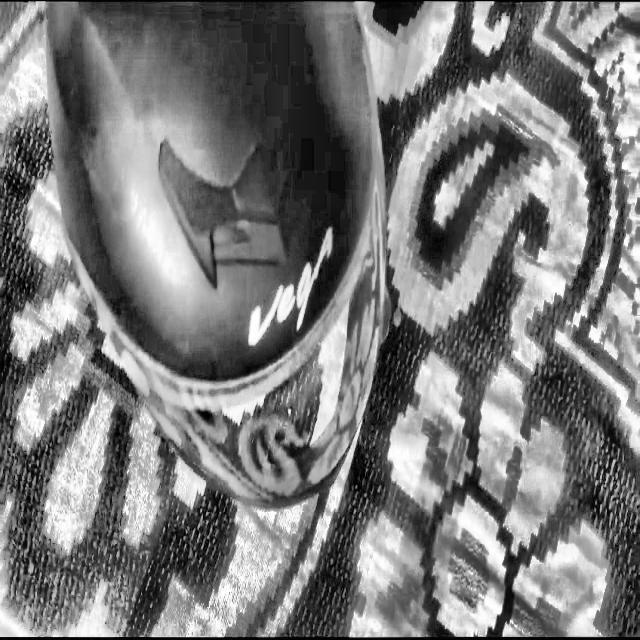Helmet: (44, 0, 386, 506)
